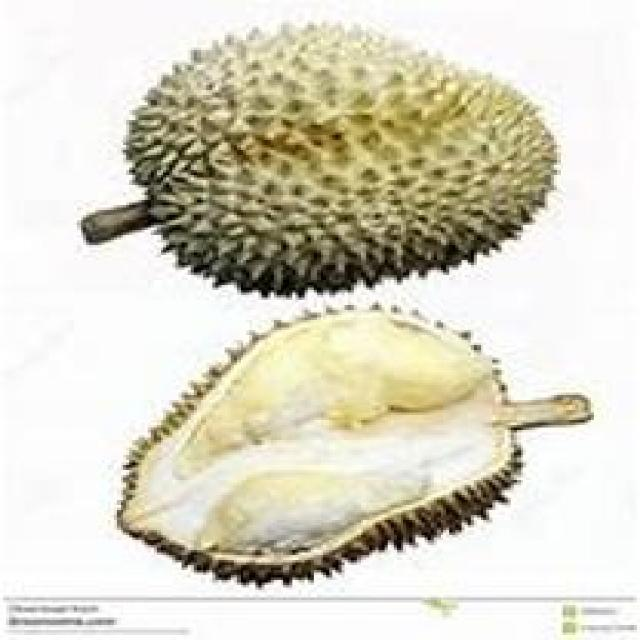fruit: (95, 0, 437, 340)
